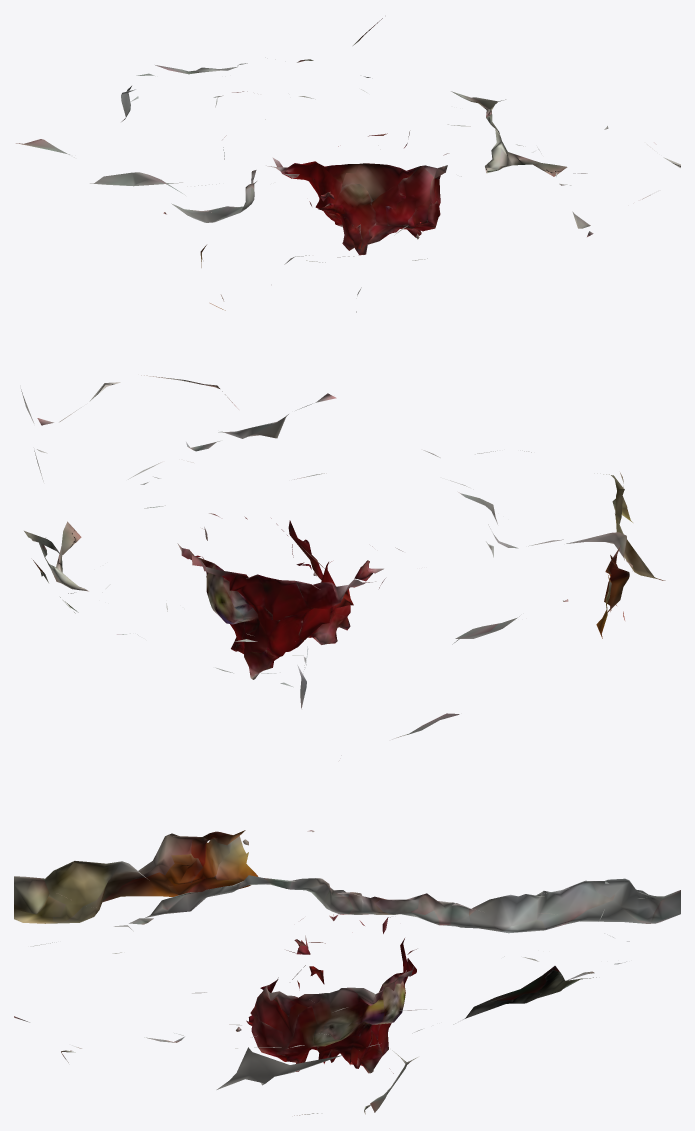
File: hall.glb
The picture shows the model from 3 angles, top to bottom: view 1: azimuth 30°, elevation 25°; view 2: azimuth 150°, elevation 25°; view 3: azimuth 270°, elevation 25°; orthographic projection. The views are drawn at different scales.
Bounding box in the file's own units: 2.84 × 1.08 × 3.01.
1 material, 1 textured.
